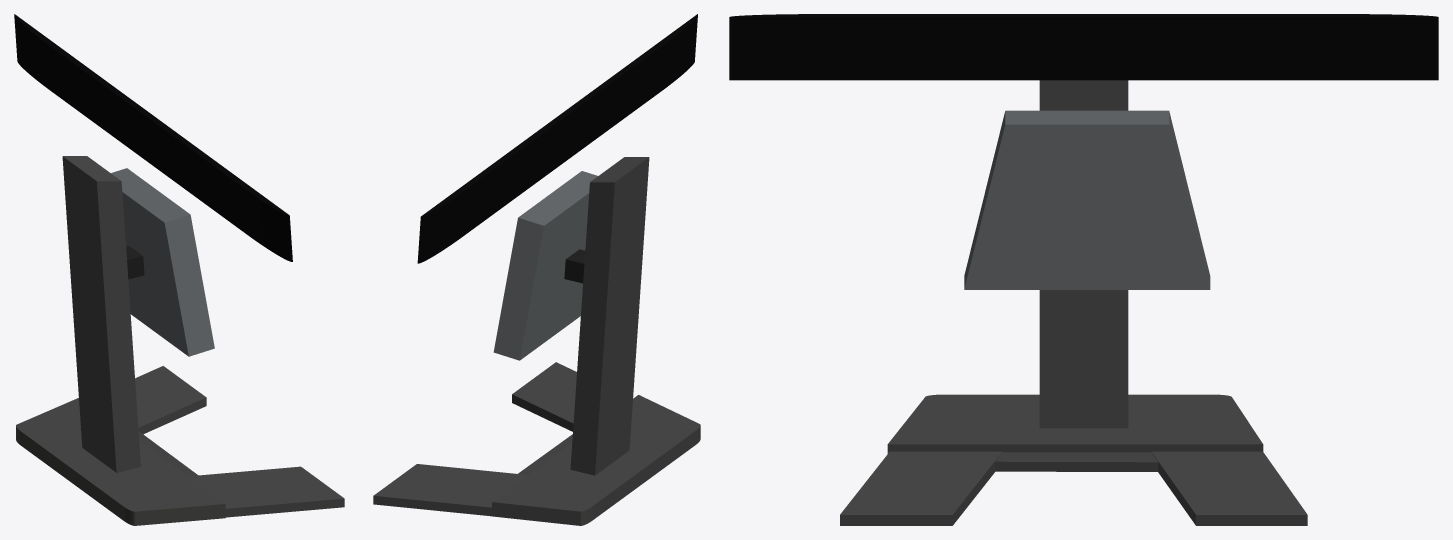
File: floor_wall.glb
The picture shows the model from 3 angles, left to right: view 1: azimuth 30°, elevation 25°; view 2: azimuth 150°, elevation 25°; view 3: azimuth 270°, elevation 25°; orthographic projection. The views are drawn at different scales.
Parts seen in each view (by area): view 1: Cube.006, Cube.003, Cube.004, Cube.007, Cube.008, Cube.009, Cube.010, Cube.005; view 2: Cube.006, Cube.003, Cube.004, Cube.007, Cube.009, Cube.008, Cube.005, Cube.010; view 3: Cube.003, Cube.004, Cube.007, Cube.006, Cube.008, Cube.009, Cube.010.
Part boxes in pixels (x1,y1,x2,y2): Cube.006: (62,156,140,472); Cube.003: (14,14,292,261); Cube.004: (111,168,214,356); Cube.007: (16,398,225,525); Cube.008: (188,466,344,517); Cube.009: (135,366,206,434); Cube.010: (138,431,198,476); Cube.005: (126,246,144,279); Cube.006: (570,157,649,475); Cube.003: (417,14,697,263); Cube.004: (493,171,597,360); Cube.007: (492,395,700,525); Cube.009: (373,464,528,516); Cube.008: (512,362,576,431); Cube.005: (564,249,585,283); Cube.010: (518,434,572,474); Cube.003: (729,14,1438,80); Cube.004: (964,110,1210,289); Cube.007: (887,394,1263,453); Cube.006: (1039,80,1128,428); Cube.008: (840,451,1002,525); Cube.009: (1151,451,1307,525); Cube.010: (995,452,1158,471).
Size of the model in its own units: 2.45 by 4.53 by 6.51.
7 materials, 1 textured.
